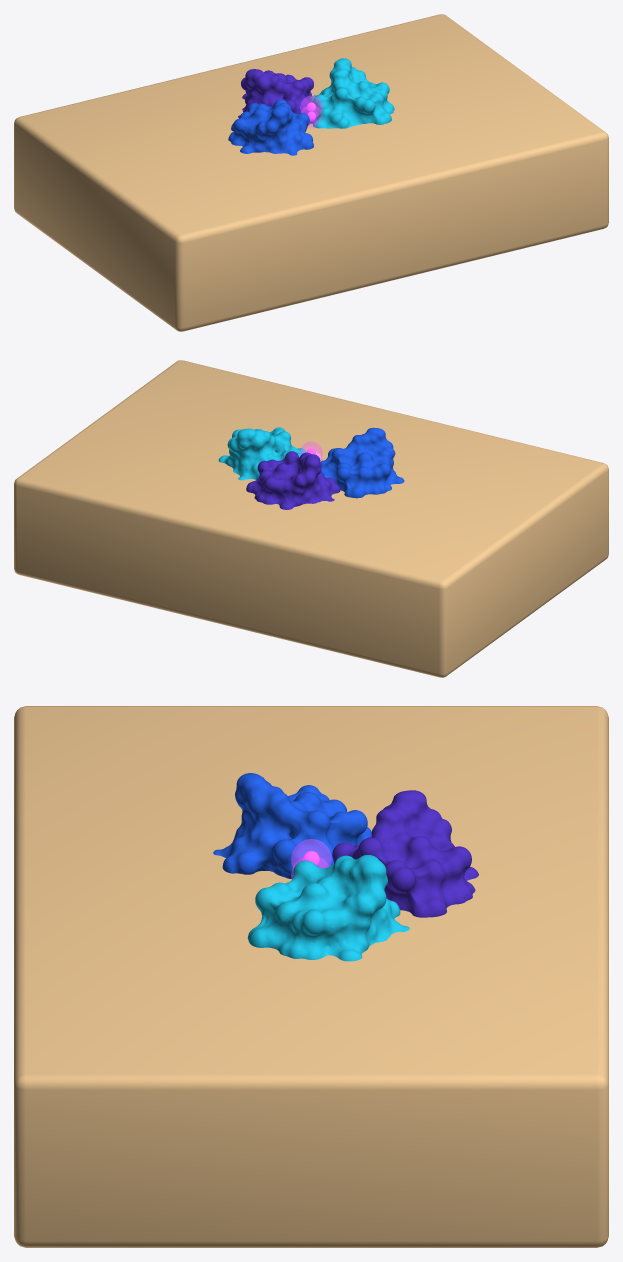
Rendered from kcsa-potassium-channel.glb.
3 views of the same model, one above another, from view 1: azimuth 30°, elevation 25°; view 2: azimuth 150°, elevation 25°; view 3: azimuth 270°, elevation 25° (orthographic). The views are drawn at different scales.
Visible parts, largest first — view 1: KcsA_Membrane, KcsA_1K4C; view 2: KcsA_Membrane, KcsA_1K4C; view 3: KcsA_Membrane, KcsA_1K4C.
Boxes of the visible parts, box(x1,y1,x2,y2) form: KcsA_Membrane: box(14, 14, 608, 331); KcsA_1K4C: box(228, 58, 394, 155); KcsA_Membrane: box(14, 360, 608, 677); KcsA_1K4C: box(218, 427, 404, 509); KcsA_Membrane: box(14, 706, 608, 1247); KcsA_1K4C: box(213, 773, 478, 961).
Size of the model in its own units: 1.5 by 0.6646 by 1.
